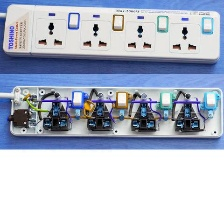three_eye_plug: (0, 1, 224, 65), (7, 80, 223, 142)
